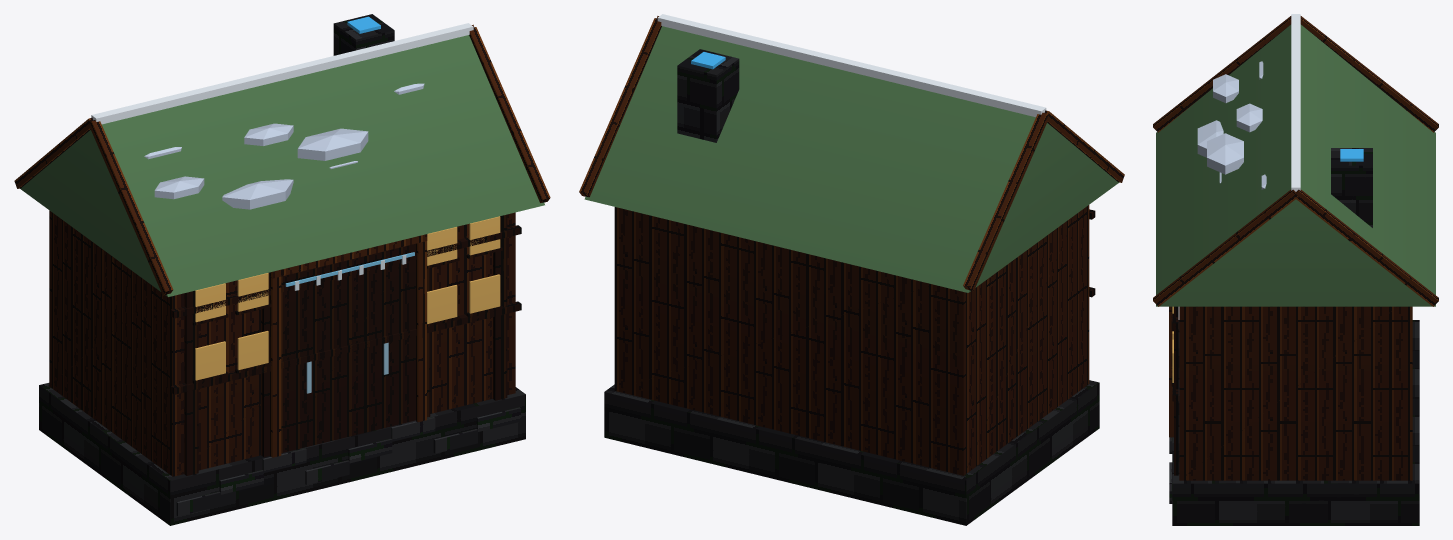
The model's file is longhouse.glb.
The picture shows the model from 3 angles, left to right: view 1: azimuth 30°, elevation 25°; view 2: azimuth 150°, elevation 25°; view 3: azimuth 270°, elevation 25°; orthographic projection. The views are drawn at different scales.
Visible parts, largest first — view 1: longhouse; view 2: longhouse; view 3: longhouse.
Boxes of the visible parts, x1,y1,x2,y2 form: longhouse: (14, 14, 550, 525); longhouse: (579, 14, 1124, 525); longhouse: (1153, 14, 1438, 525).
Size of the model in its own units: 8.98 by 8.11 by 6.12.
Materials: 5 (2 with a texture image).
